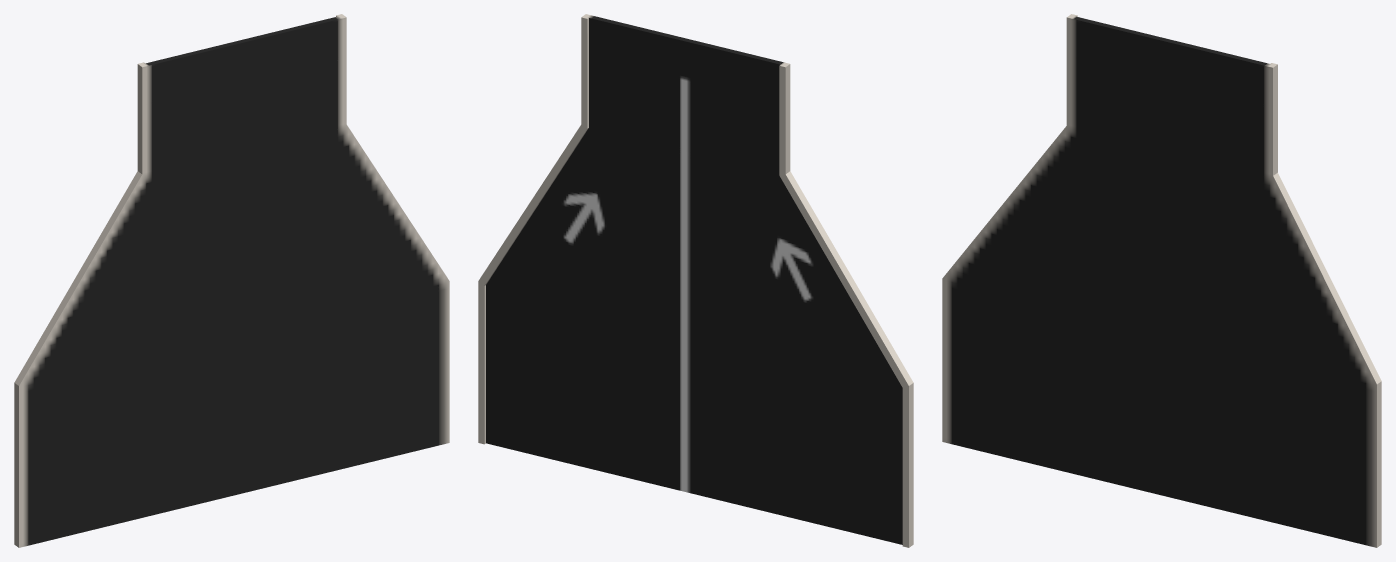
Rendered from bridge-road-parts-Y.obj.
3 views of the same model, side by side, from view 1: azimuth 30°, elevation 25°; view 2: azimuth 150°, elevation 25°; view 3: azimuth 330°, elevation 25° (orthographic).
Visible parts, largest first — view 1: bridge-road-parts-Y_Plane.050; view 2: bridge-road-parts-Y_Plane.050; view 3: bridge-road-parts-Y_Plane.050.
Boxes of the visible parts, bbox=[...] form: bridge-road-parts-Y_Plane.050: bbox=[14, 14, 449, 547]; bridge-road-parts-Y_Plane.050: bbox=[478, 14, 913, 547]; bridge-road-parts-Y_Plane.050: bbox=[942, 14, 1381, 547].
Size of the model in its own units: 8 by 8 by 0.15.
